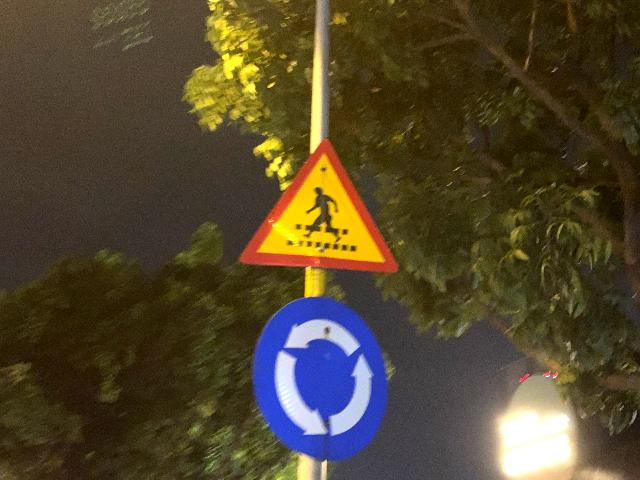duong-nguoi-di-bo-cat-ngang: (239, 136, 400, 273)
noi-giao-nhau-chay-theo-vong-xuyen: (251, 296, 389, 462)
